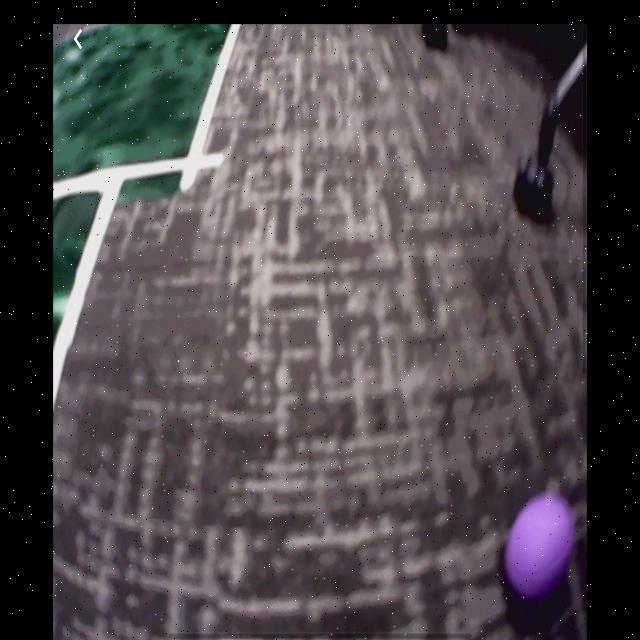ball: (504, 491, 577, 602)
